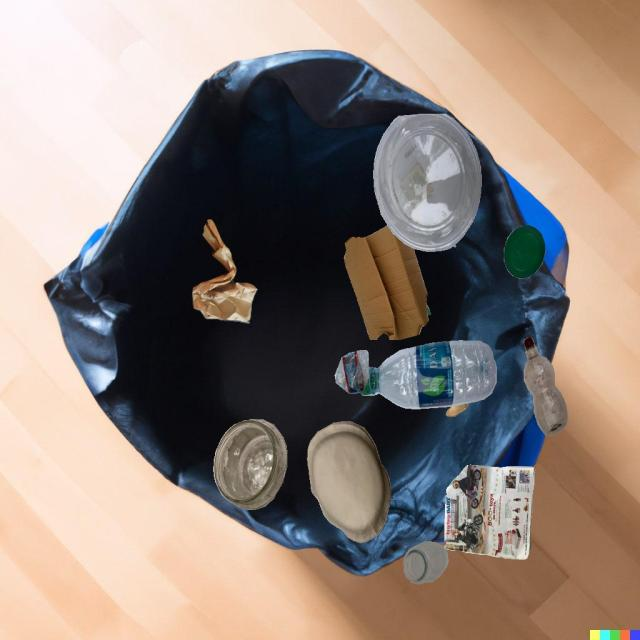cardboard: (344, 225, 428, 340)
glass: (213, 419, 287, 510), (403, 541, 448, 584), (446, 403, 469, 417)
paper: (307, 421, 391, 543), (444, 465, 535, 560), (192, 220, 258, 323)
plastic: (373, 114, 482, 252), (360, 340, 497, 409), (524, 337, 568, 436), (504, 225, 545, 279), (335, 350, 369, 393), (427, 305, 431, 315)
